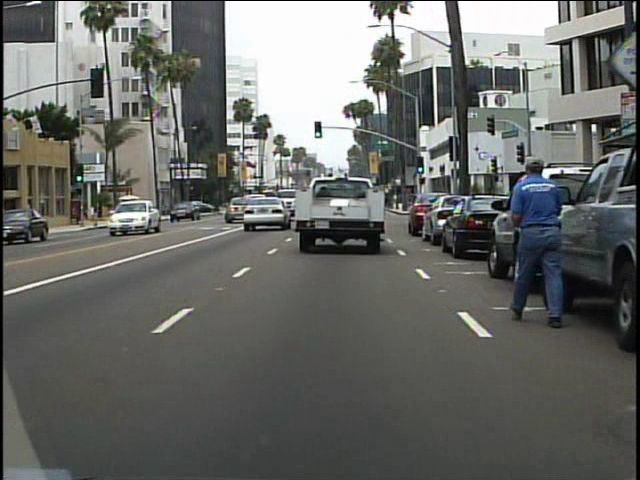person: (495, 146, 577, 333)
